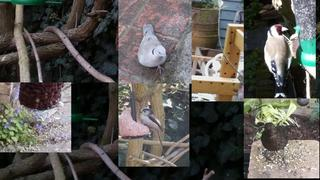blackbird: (260, 122, 295, 167)
collared dove: (137, 24, 168, 75)
goldfinch: (264, 24, 292, 98)
long tailed tit: (139, 108, 165, 158)
